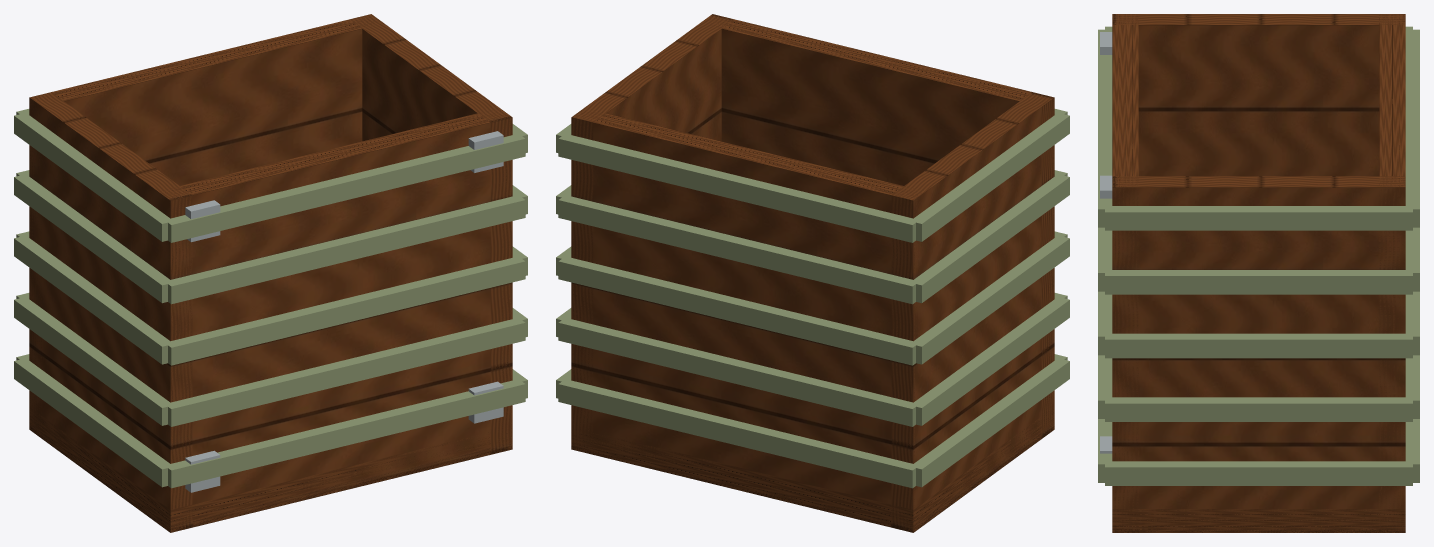
File: rural-scavenging-settlements-wicker-laundry-frame-07a01711__26578.glb
3 renders of one model, left to right at view 1: azimuth 30°, elevation 25°; view 2: azimuth 150°, elevation 25°; view 3: azimuth 270°, elevation 25°, orthographic. The views are drawn at different scales.
Parts seen in each view (by area): view 1: wicker-laundry-frame; view 2: wicker-laundry-frame; view 3: wicker-laundry-frame.
Part boxes in pixels (x1,y1,x2,y2): wicker-laundry-frame: (14, 14, 527, 532); wicker-laundry-frame: (556, 14, 1069, 532); wicker-laundry-frame: (1098, 14, 1419, 532).
Bounding box in the file's own units: 0.749 × 0.65 × 0.549.
Materials: 3 (1 with a texture image).
